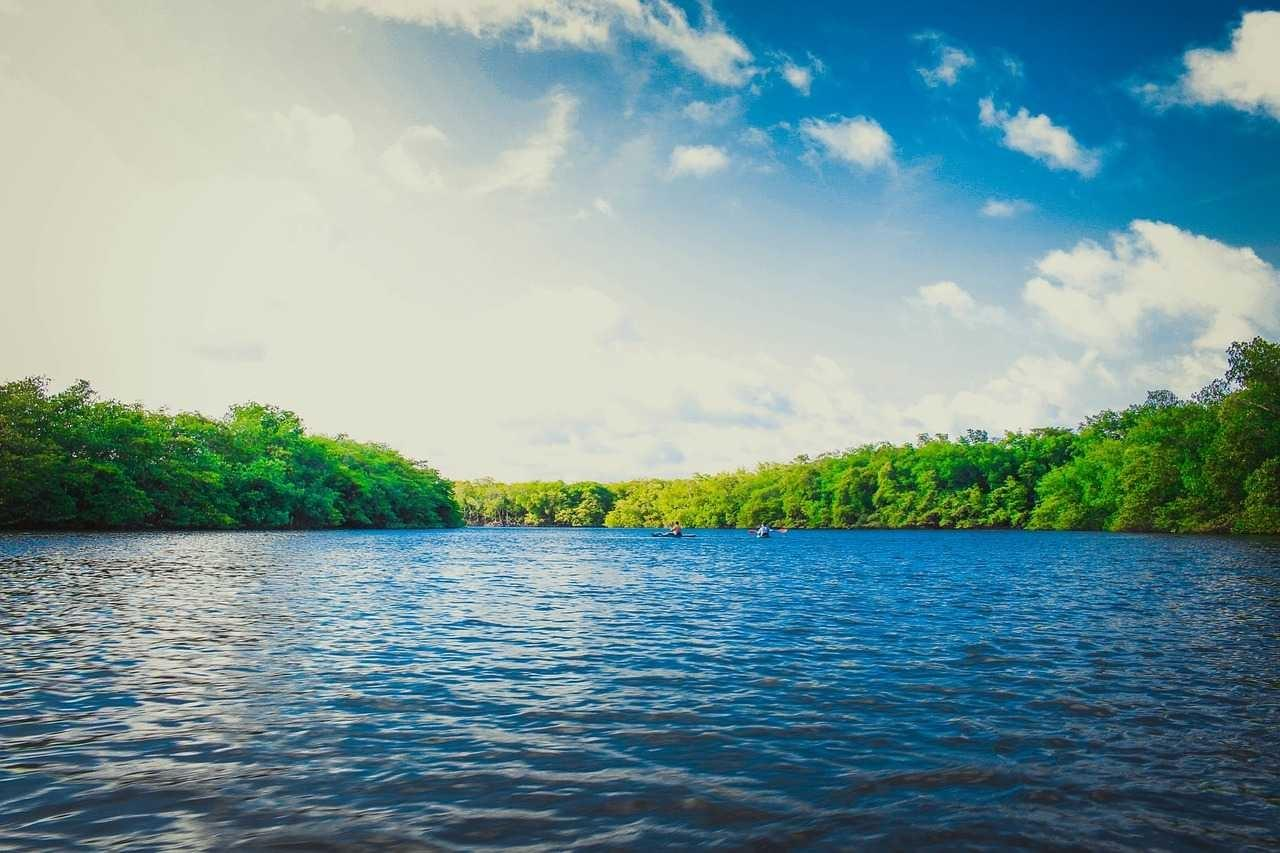kayak: (753, 524, 773, 538)
